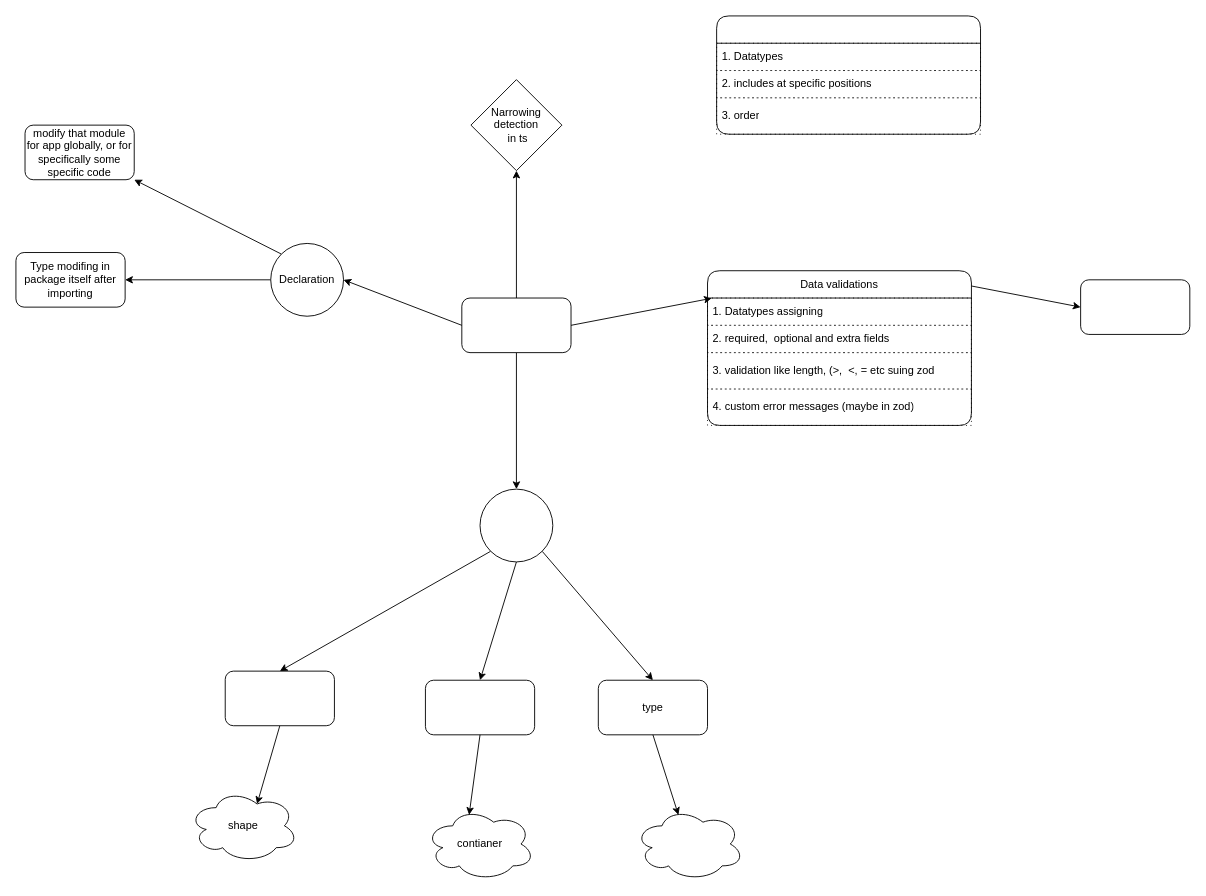
Some shapes in this 1206 by 896 pixel diagram are drawn without their labels. The shapes that lost their labels are listed below. From the top down, each one's box as (x1, y1, x2, y2) in pixels, then its label:
(716, 15, 981, 134): filters
(461, 297, 571, 353): Types
(1080, 279, 1190, 334): Regrex
(479, 488, 553, 562): Creation
(224, 670, 334, 726): Interface
(425, 679, 535, 735): namespace
(634, 807, 744, 880): kinda shape
